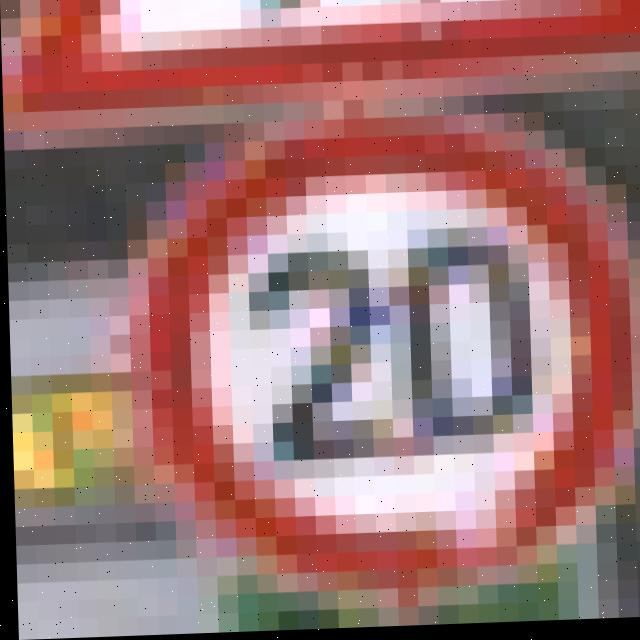speed_limit_20: (123, 89, 640, 617)
